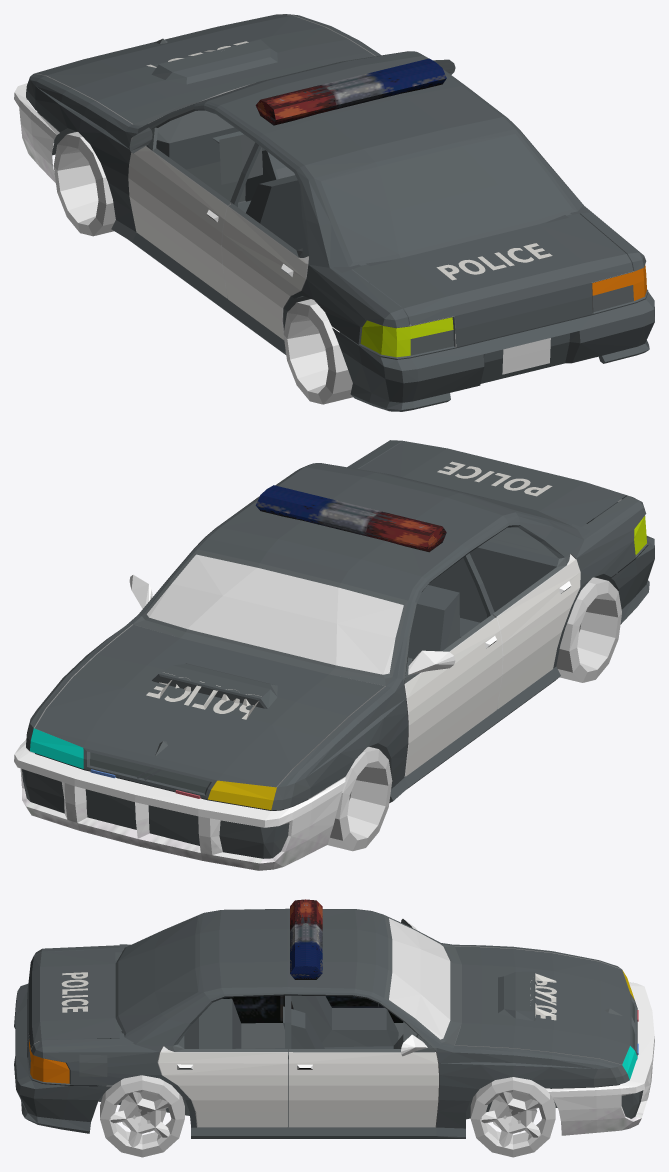
Rendered from sultan_lspd_v10.glb.
The picture shows the model from 3 angles, top to bottom: view 1: azimuth 30°, elevation 25°; view 2: azimuth 150°, elevation 25°; view 3: azimuth 270°, elevation 25°; orthographic projection. The views are drawn at different scales.
Parts seen in each view (by area): view 1: boot_ok_3_0, sultan_roof_rear_26_14, bonnet_ok_1_0, chassis_19_6, sultan_roof_25_6, bump_rear_ok_11_0, lspd_door_lf_27_0, sultan_roof_rear_26_6, lspd_door_lr_29_0, chassis_19_9, lspd_lightbar_31_0, sultan_roof_rear_26_7 (+14 smaller); view 2: bonnet_ok_1_0, chassis_19_6, windscreen_ok_7_0, sultan_roof_25_6, bump_front_ok_9_1, boot_ok_3_0, lspd_door_lf_27_0, chassis_19_9, lspd_door_lr_29_0, chassis_19_7, lspd_lightbar_31_0, sultan_roof_rear_26_6 (+18 smaller); view 3: chassis_19_6, bonnet_ok_1_0, lspd_door_rf_28_0, sultan_roof_25_6, lspd_door_rr_30_0, boot_ok_3_0, chassis_19_9, sultan_roof_rear_26_14, bump_front_ok_9_1, windscreen_ok_7_0, bump_rear_ok_11_0, chassis_19_7 (+19 smaller).
Boxes of the visible parts, bbox=[...] form: boot_ok_3_0: bbox=[353, 213, 633, 347]; sultan_roof_rear_26_14: bbox=[321, 134, 572, 262]; bonnet_ok_1_0: bbox=[35, 14, 374, 123]; chassis_19_6: bbox=[30, 14, 648, 358]; sultan_roof_25_6: bbox=[194, 51, 508, 171]; bump_rear_ok_11_0: bbox=[332, 292, 654, 411]; lspd_door_lf_27_0: bbox=[128, 146, 227, 298]; sultan_roof_rear_26_6: bbox=[297, 116, 638, 312]; lspd_door_lr_29_0: bbox=[222, 207, 306, 339]; chassis_19_9: bbox=[37, 112, 646, 359]; lspd_lightbar_31_0: bbox=[255, 58, 446, 125]; sultan_roof_rear_26_7: bbox=[295, 129, 577, 266]; bonnet_ok_1_0: bbox=[35, 624, 384, 787]; chassis_19_6: bbox=[30, 440, 648, 800]; windscreen_ok_7_0: bbox=[147, 554, 403, 674]; sultan_roof_25_6: bbox=[194, 467, 509, 602]; bump_front_ok_9_1: bbox=[14, 739, 345, 870]; boot_ok_3_0: bbox=[359, 441, 627, 526]; lspd_door_lf_27_0: bbox=[405, 618, 502, 776]; chassis_19_9: bbox=[35, 441, 647, 810]; lspd_door_lr_29_0: bbox=[497, 559, 580, 709]; chassis_19_7: bbox=[133, 549, 618, 809]; lspd_lightbar_31_0: bbox=[255, 485, 446, 552]; sultan_roof_rear_26_6: bbox=[301, 441, 637, 553]; chassis_19_6: bbox=[27, 912, 637, 1138]; bonnet_ok_1_0: bbox=[455, 946, 629, 1064]; lspd_door_rf_28_0: bbox=[288, 1052, 438, 1127]; sultan_roof_25_6: bbox=[222, 908, 383, 1001]; lspd_door_rr_30_0: bbox=[158, 1050, 288, 1127]; boot_ok_3_0: bbox=[27, 948, 122, 1052]; chassis_19_9: bbox=[29, 948, 620, 1127]; sultan_roof_rear_26_14: bbox=[118, 915, 198, 1033]; bump_front_ok_9_1: bbox=[546, 982, 654, 1135]; windscreen_ok_7_0: bbox=[389, 918, 450, 1039]; bump_rear_ok_11_0: bbox=[14, 984, 111, 1133]; chassis_19_7: bbox=[98, 915, 609, 1127].
Bounding box in the file's own units: 2.46 × 1.51 × 5.19.
Materials: 7 (3 with a texture image).
